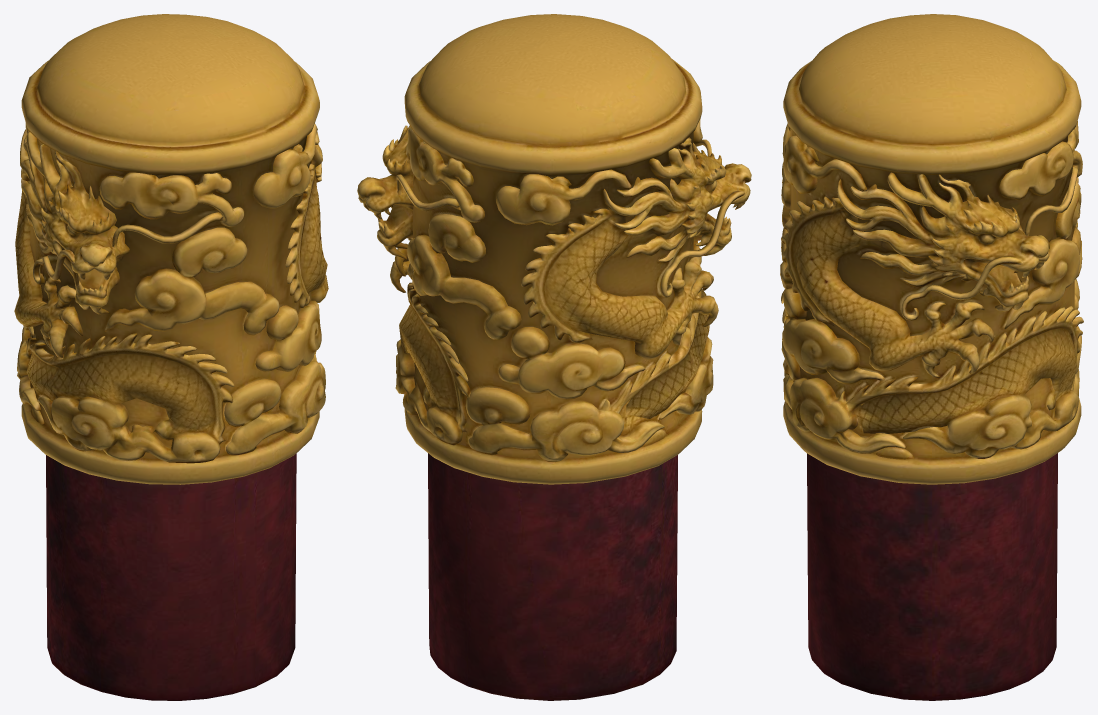
The model's file is niumo_jgb_cap.glb.
3 renders of one model, left to right at view 1: azimuth 30°, elevation 25°; view 2: azimuth 150°, elevation 25°; view 3: azimuth 270°, elevation 25°, orthographic.
Parts seen in each view (by area): view 1: tripo_node_96cb0181-10e9-421b-9aff-7b646eef34cb; view 2: tripo_node_96cb0181-10e9-421b-9aff-7b646eef34cb; view 3: tripo_node_96cb0181-10e9-421b-9aff-7b646eef34cb.
Boxes of the visible parts, x1,y1,x2,y2 form: tripo_node_96cb0181-10e9-421b-9aff-7b646eef34cb: (14,14,328,700); tripo_node_96cb0181-10e9-421b-9aff-7b646eef34cb: (357,14,751,700); tripo_node_96cb0181-10e9-421b-9aff-7b646eef34cb: (780,14,1083,700).
Size of the model in its own units: 0.4995 by 0.9995 by 0.4517.
Materials: 1 (1 with a texture image).
